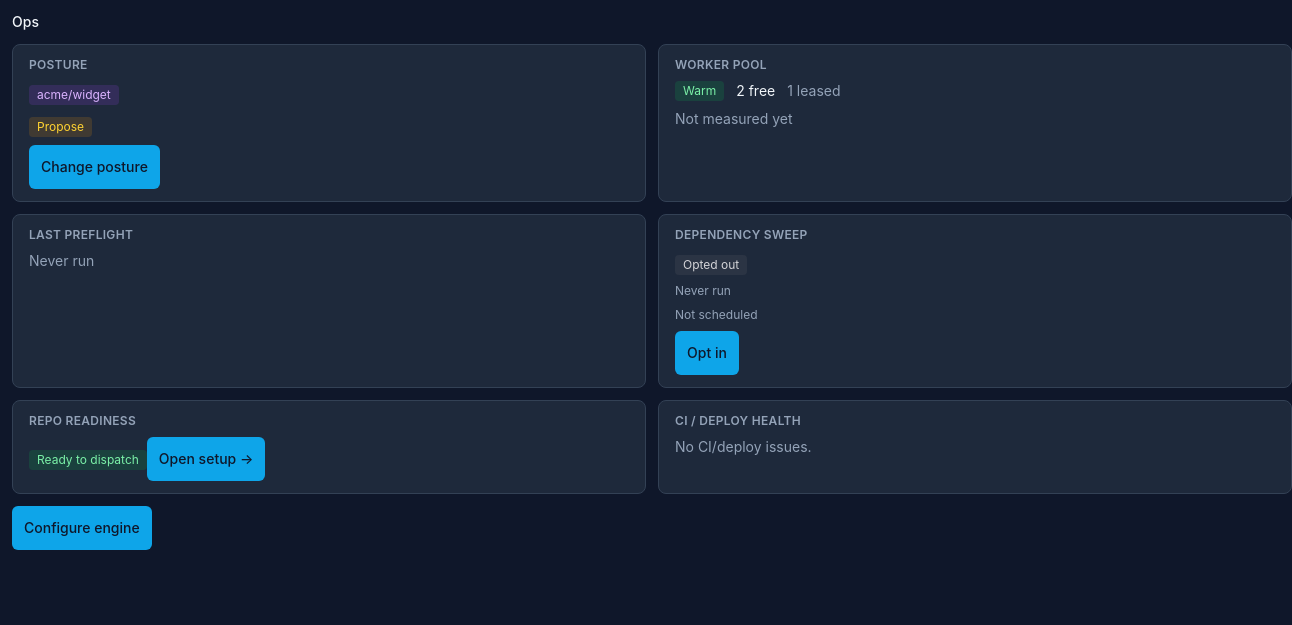
Test: EngineOpsPanel › surfaces the actionable Finding message and remedy when the toggle is refused with a 422
Click the button with test id "engine-ops-dep-sweep-toggle-button". click: [707, 353]
box: x1=675 y1=331 x2=739 y2=375
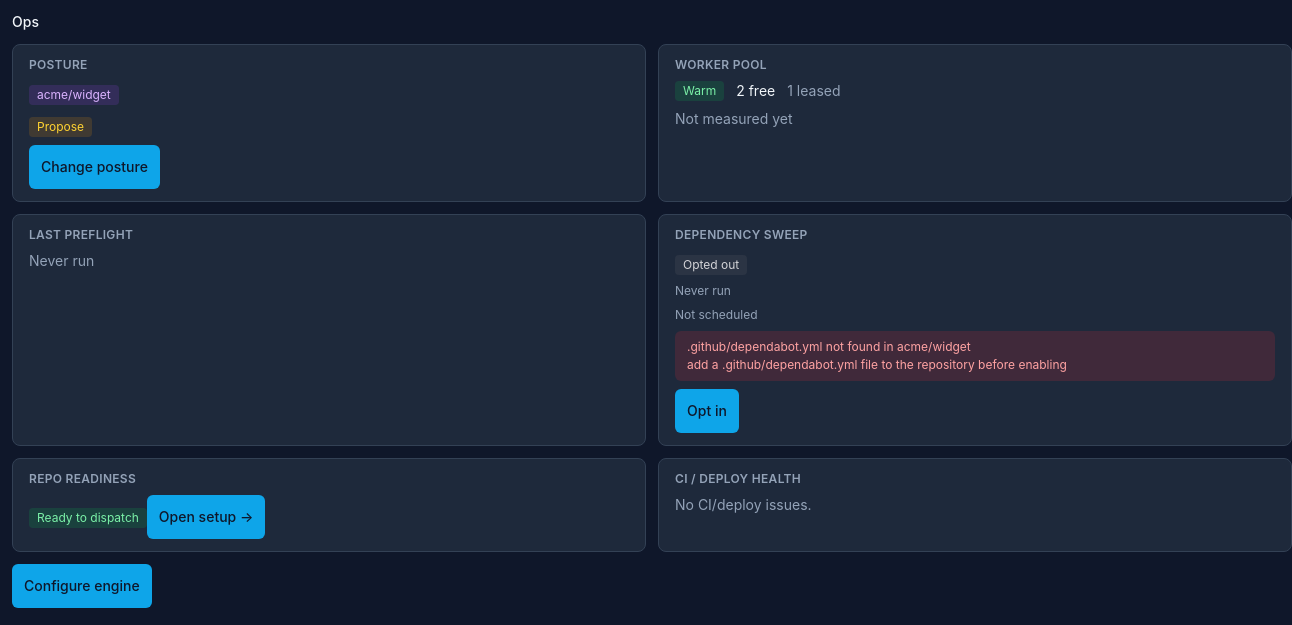
Expected: the text with test id "engine-ops-dep-sweep-finding-message" shows "dependabot.yml not found", x1=687 y1=339 x2=971 y2=354
Expected: the text with test id "engine-ops-dep-sweep-finding-remedy" shows "add a .github/dependabot.yml file", x1=687 y1=357 x2=1067 y2=372
